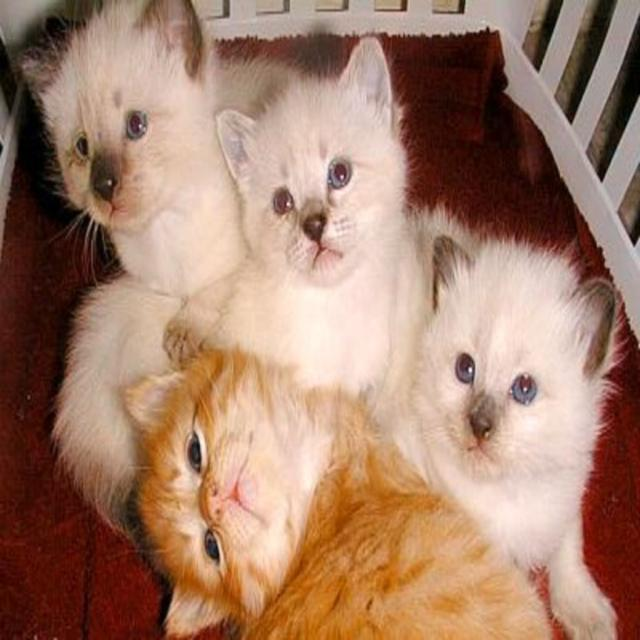Cat: (4, 0, 632, 639)
